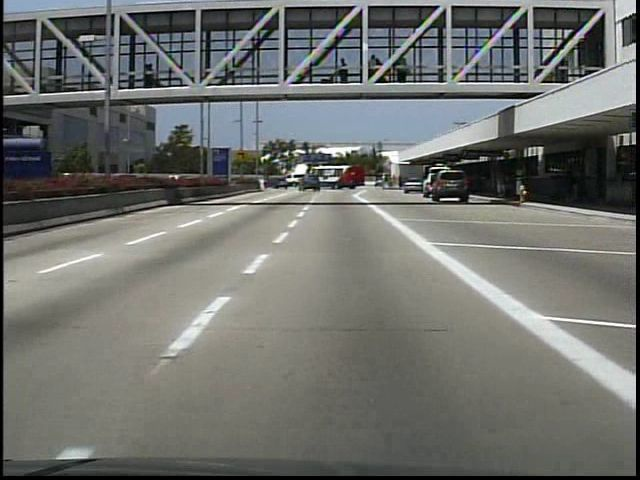person: (334, 54, 354, 86), (493, 167, 511, 201), (142, 61, 163, 90)
